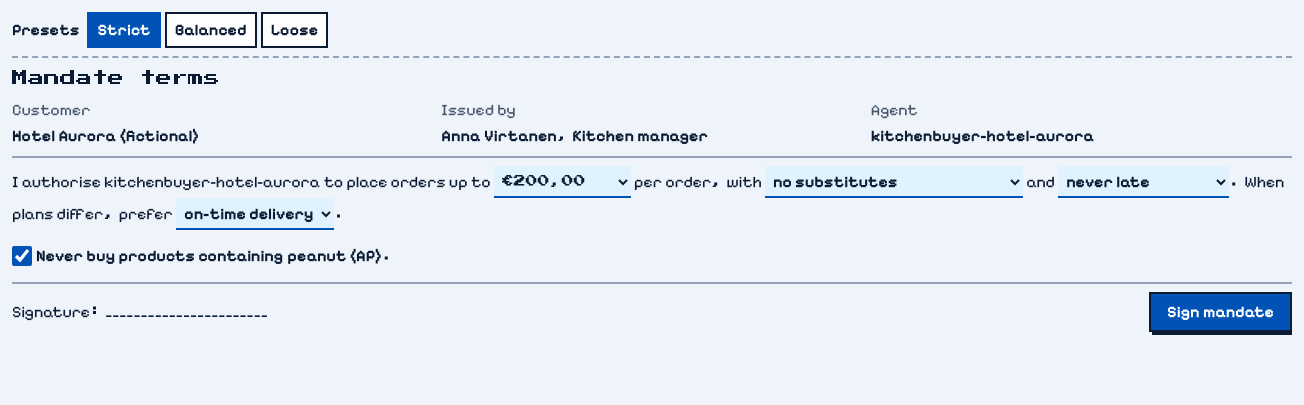
Scenario: mandate screen › shows unmatched replay values as custom and restores controls after a sign error
The width and height of the screenshot is (1304, 405).
Step 1. Click the checkbox → (22, 256), box [12,246,32,266]
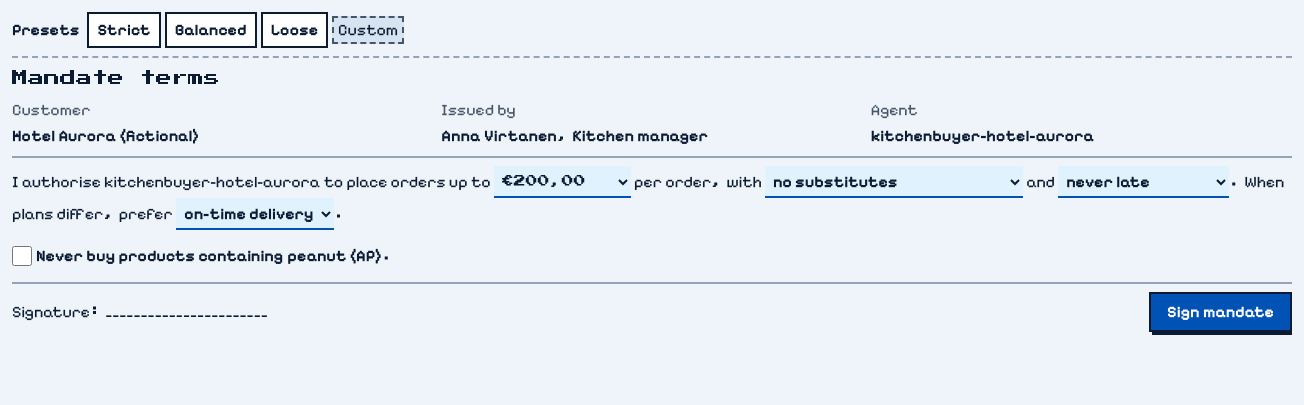
Expected: the text "Custom" is shown, [332,16,404,44]
Step 2. Click the button "Sign mandate" → (1221, 312), box [1149,292,1292,332]
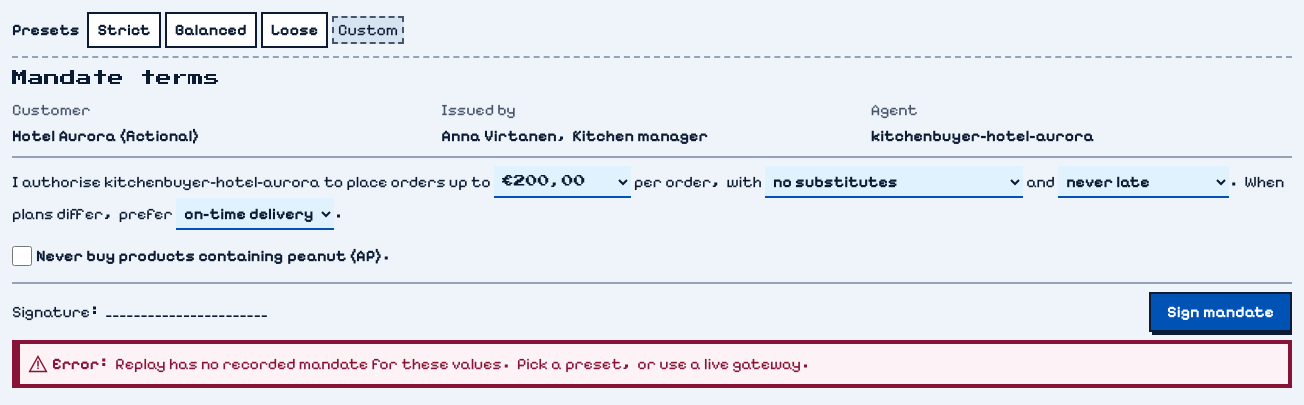
Expected: the checkbox is enabled, [12,246,32,266]
Expected: the message shows "Replay has no recorded mandate for these values. Pick a preset, or use a live gateway.", [115,354,813,373]
